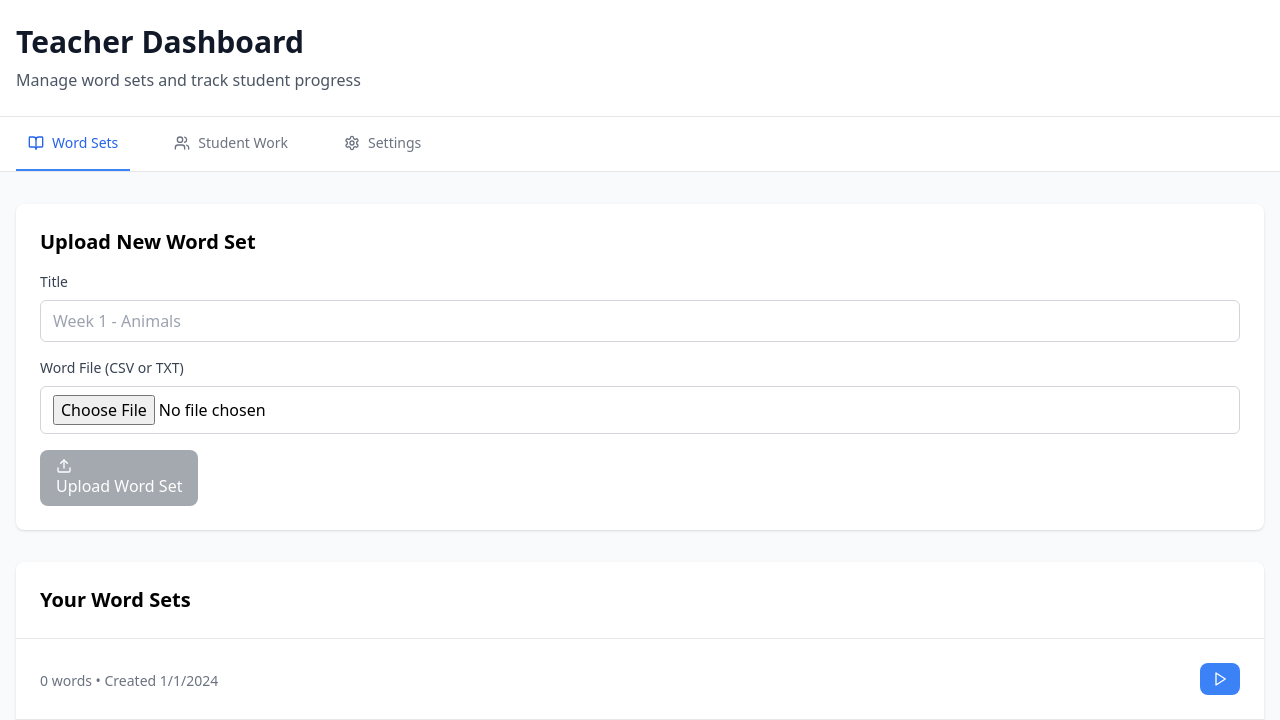
TeacherDashboard › switches to settings tab
Click the button "Settings". click: (383, 144)
box: [332,117,433,171]
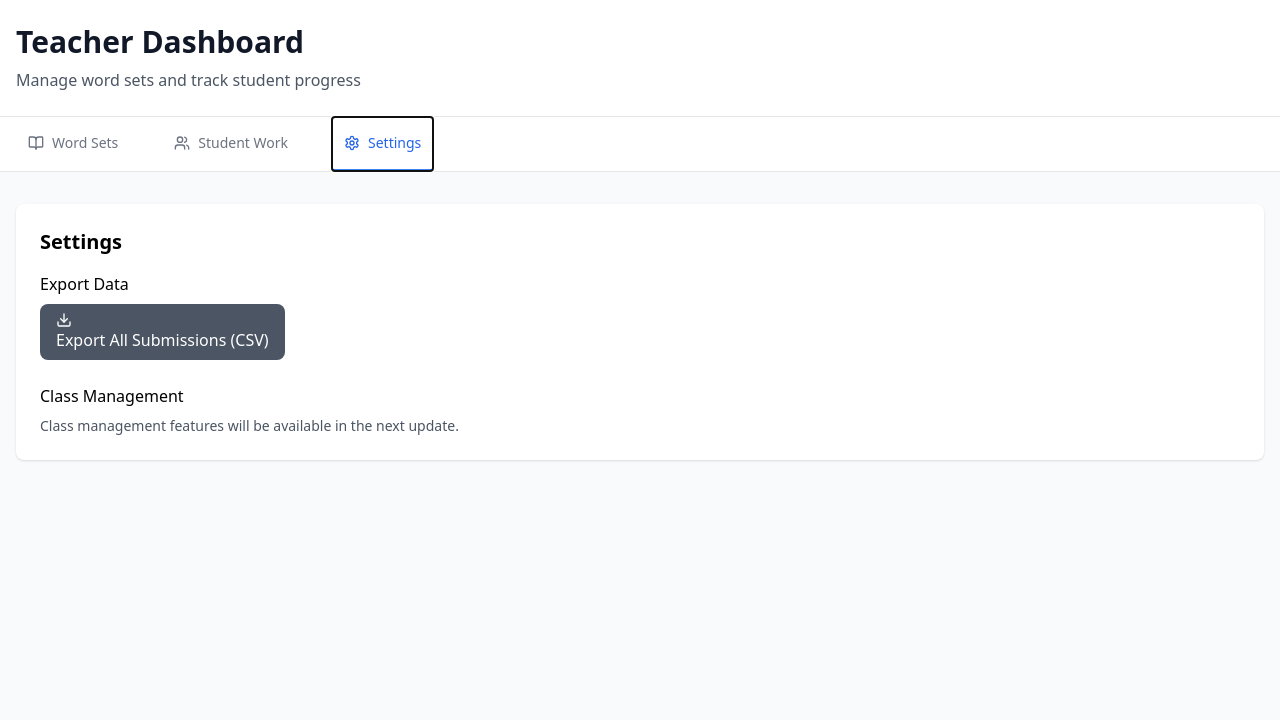
Expected: the heading "Export Data" is shown, [40,273,129,295]
Expected: the button "Export All Submissions (CSV)" is shown, [40,304,285,360]
Expected: the heading "Class Management" is shown, [40,385,184,407]
